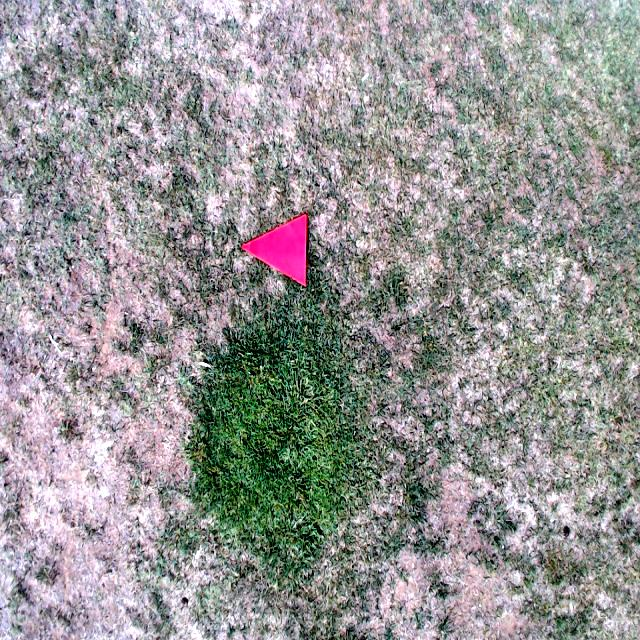red_triangle: (238, 210, 307, 286)
